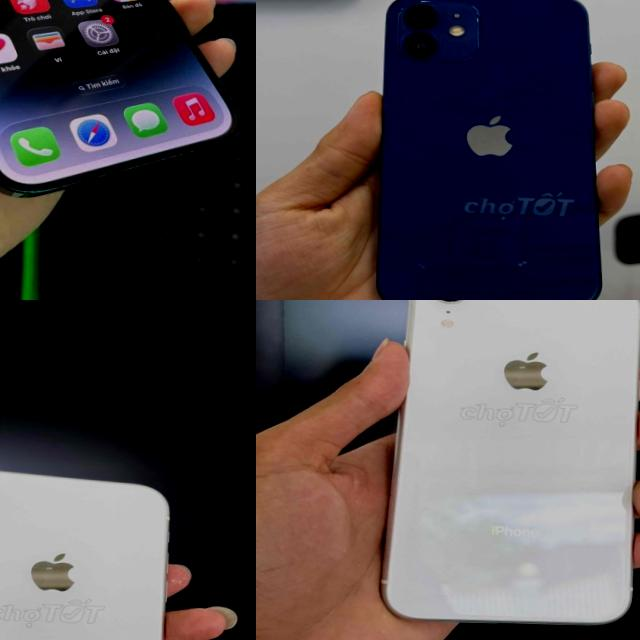gen_12_13: (374, 0, 616, 300)
gen_14: (0, 0, 253, 203)
gen_x_xs: (377, 300, 640, 630), (0, 461, 182, 640)
